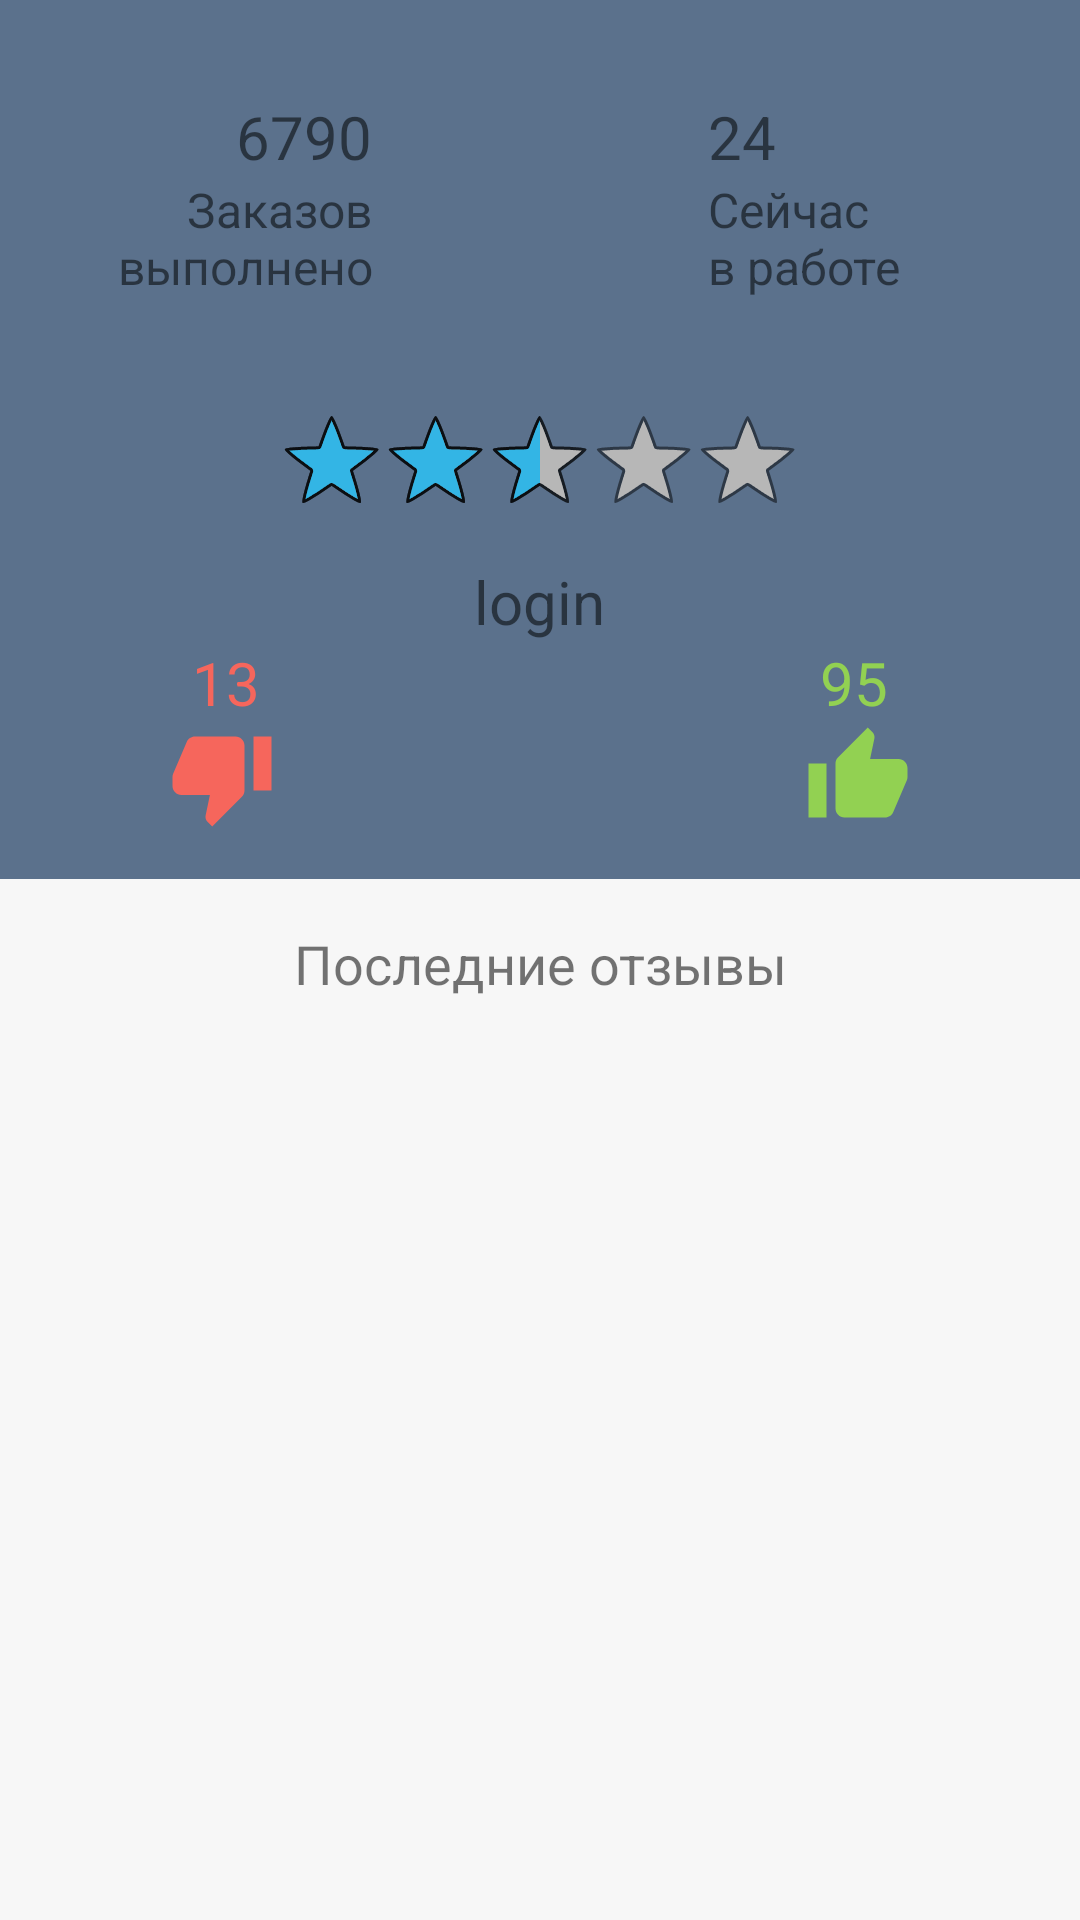

Icon bounding boxes for this 1080px×1920px phone screenshot, format Rect(x1, y1, x2, y2):
thumb down: Rect(172, 736, 272, 827)
thumb up: Rect(808, 728, 908, 818)
